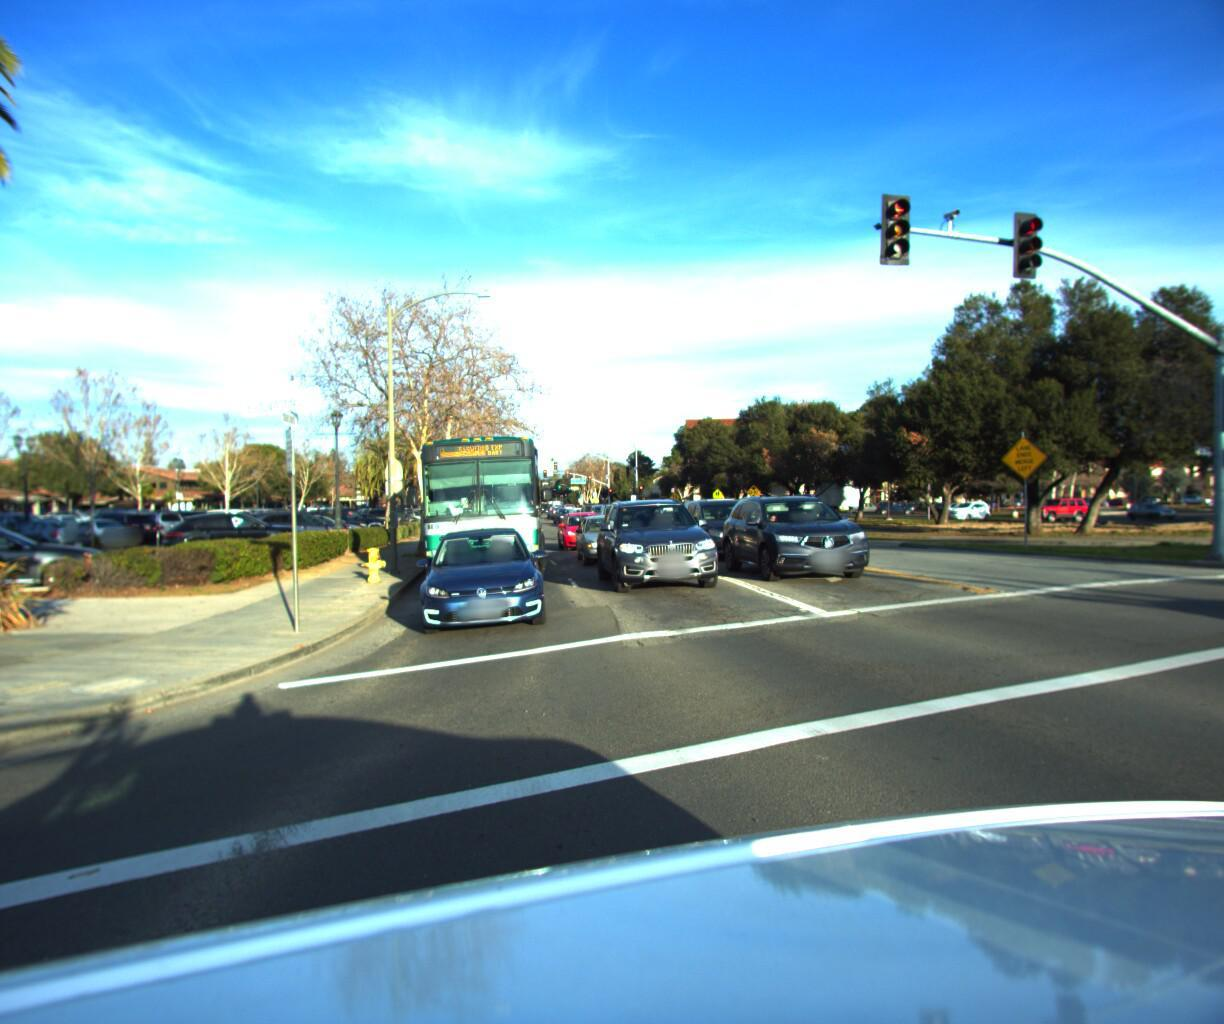bus: (400, 421, 550, 607)
car: (407, 520, 555, 652), (712, 489, 881, 589), (588, 492, 727, 599), (138, 510, 312, 573), (0, 517, 107, 608), (672, 493, 786, 565), (231, 506, 365, 559), (262, 505, 375, 549), (573, 505, 650, 566), (288, 505, 392, 540), (554, 507, 619, 553)
